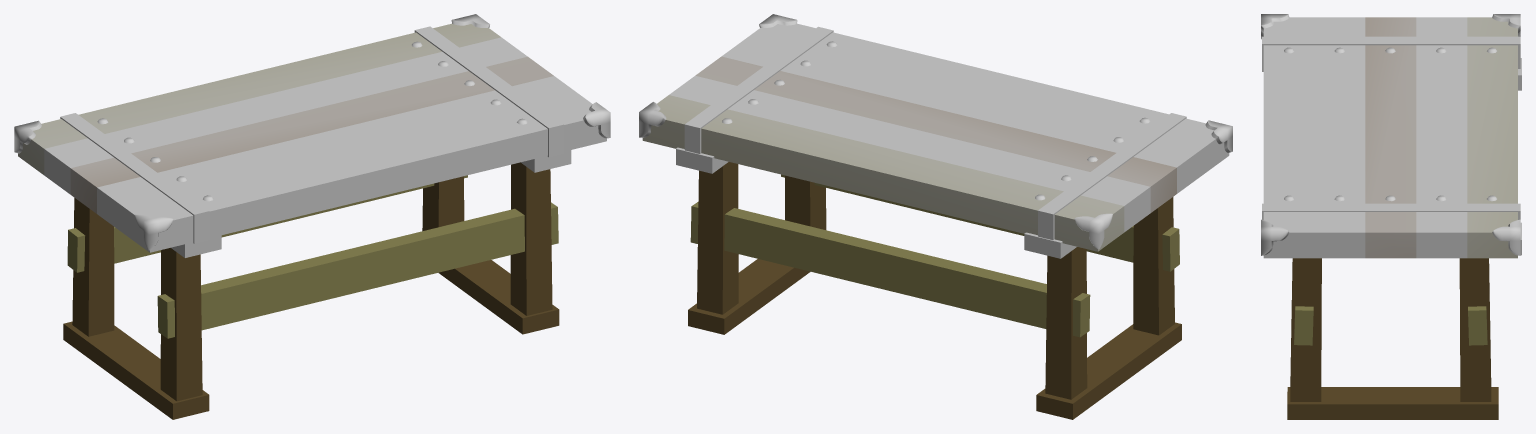
File: workbench.gltf
3 views of the same model, side by side, from view 1: azimuth 30°, elevation 25°; view 2: azimuth 150°, elevation 25°; view 3: azimuth 270°, elevation 25° (orthographic). The views are drawn at different scales.
Parts seen in each view (by area): view 1: Workbench; view 2: Workbench; view 3: Workbench.
Part boxes in pixels (<box>): Workbench: <box>14,14,610,419</box>; Workbench: <box>639,14,1232,419</box>; Workbench: <box>1261,14,1521,419</box>.
Bounding box in the file's own units: 2.02 × 0.8946 × 1.02.
